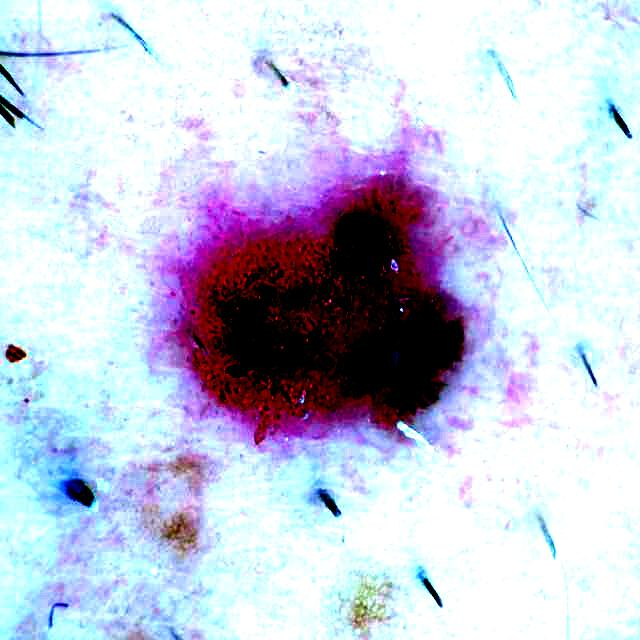BCC: (187, 176, 463, 444)
